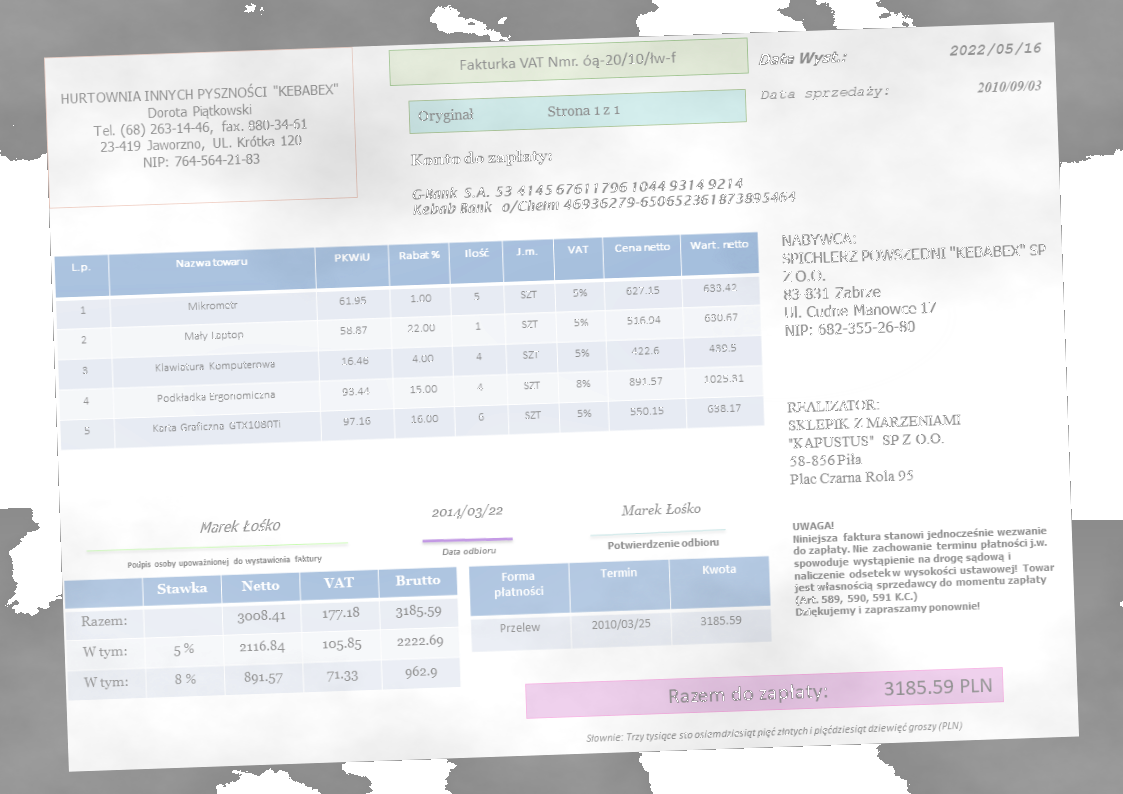Table: (53, 231, 766, 451), (63, 565, 463, 702), (467, 555, 773, 653)
TextBox: (778, 223, 1051, 340), (789, 509, 1058, 620), (59, 80, 344, 176), (409, 173, 798, 220), (784, 392, 967, 488), (666, 674, 996, 709), (583, 717, 965, 747), (456, 47, 677, 75), (416, 100, 622, 125), (123, 550, 326, 573), (407, 144, 556, 172), (757, 83, 890, 103), (945, 38, 1043, 60), (605, 535, 723, 553), (755, 47, 850, 68), (198, 515, 283, 536), (619, 500, 703, 520), (428, 502, 507, 523), (974, 78, 1042, 94), (438, 542, 498, 559)
